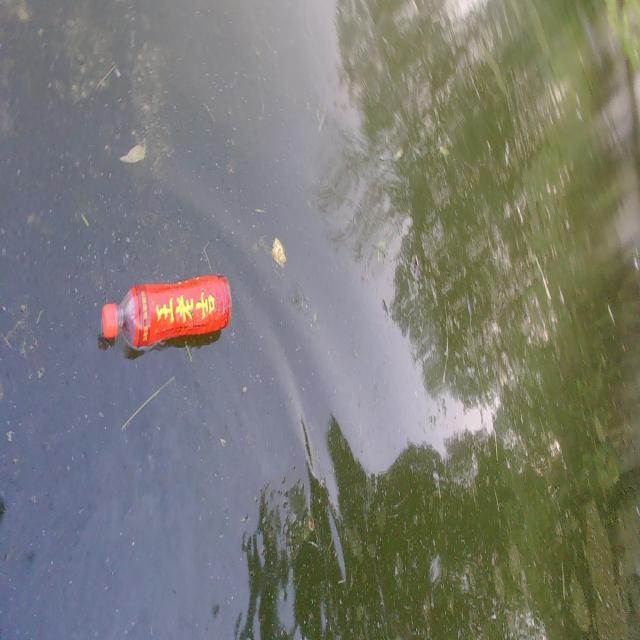garbage: (101, 273, 231, 351)
